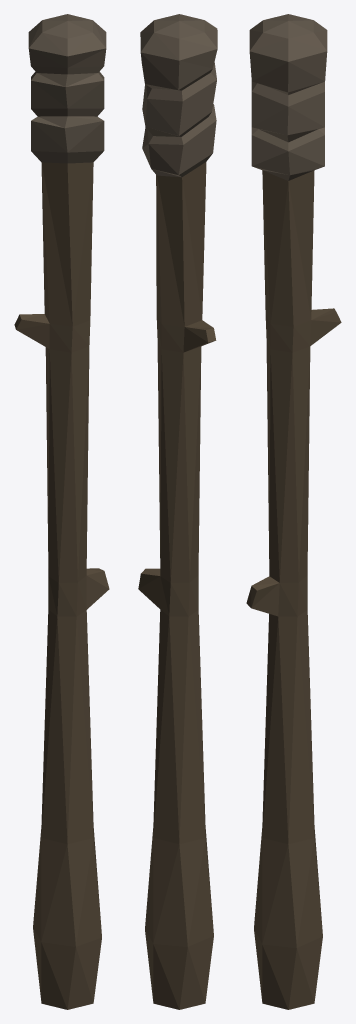
Rendered from synty-prop-torchstick-01.gltf.
3 views of the same model, side by side, from view 1: azimuth 90°, elevation 25°; view 2: azimuth 210°, elevation 25°; view 3: azimuth 270°, elevation 25° (orthographic).
Visible parts, largest first — view 1: SM_Prop_TorchStick_01; view 2: SM_Prop_TorchStick_01; view 3: SM_Prop_TorchStick_01.
Boxes of the visible parts, box(x1,y1,x2,y2) form: SM_Prop_TorchStick_01: box(14, 14, 109, 1009); SM_Prop_TorchStick_01: box(138, 14, 217, 1009); SM_Prop_TorchStick_01: box(246, 14, 341, 1009).
Size of the model in its own units: 0.155 by 1.88 by 0.1663.
1 material, 1 textured.
